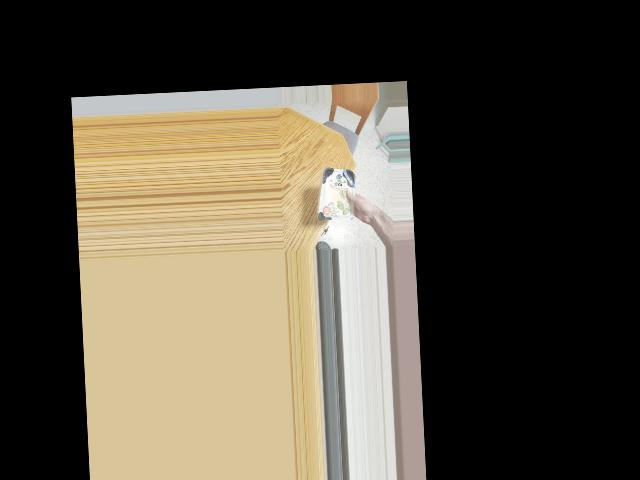cheese: (316, 166, 363, 222)
